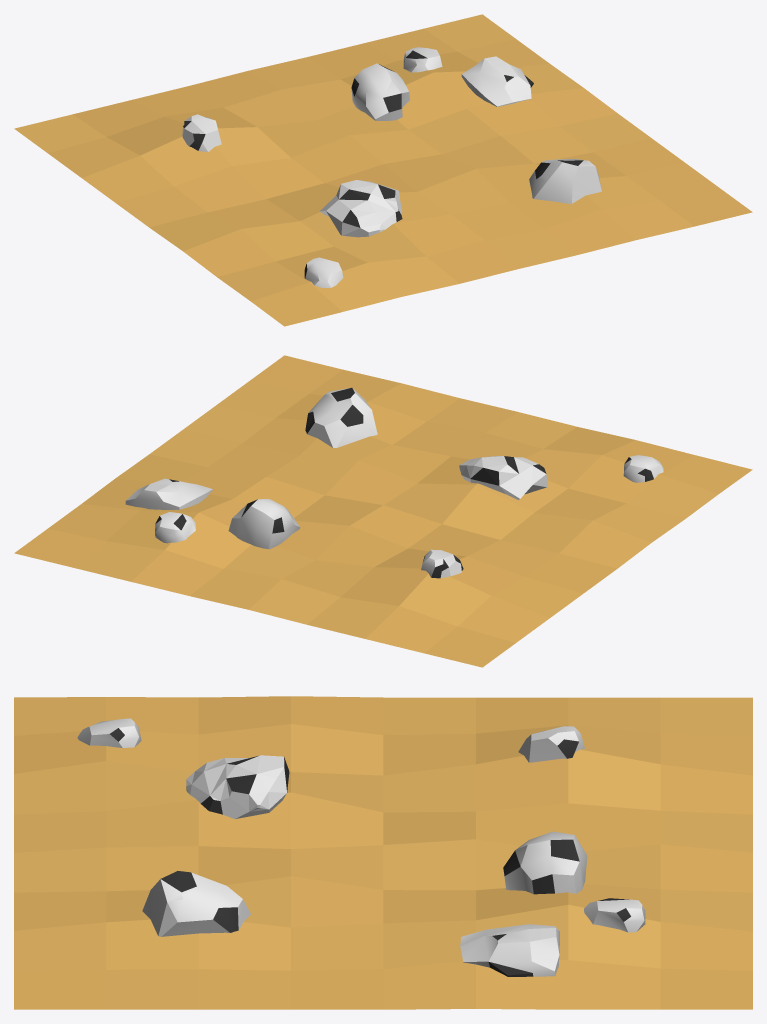
Rendered from catorebase.fbx.
3 views of the same model, one above another, from view 1: azimuth 30°, elevation 25°; view 2: azimuth 150°, elevation 25°; view 3: azimuth 270°, elevation 25° (orthographic). The views are drawn at different scales.
Visible parts, largest first — view 1: CatOre, Icosphere.001, Icosphere.002, Icosphere.006, Icosphere.004, Icosphere.005, Icosphere, Icosphere.003; view 2: CatOre, Icosphere.002, Icosphere.001, Icosphere.006, Icosphere.004, Icosphere.003, Icosphere.005, Icosphere; view 3: CatOre, Icosphere.002, Icosphere.001, Icosphere.004, Icosphere.006, Icosphere.005, Icosphere.003, Icosphere.
Boxes of the visible parts, x1,y1,x2,y2 form: CatOre: (14, 14, 752, 326); Icosphere.001: (320, 180, 402, 237); Icosphere.002: (529, 159, 601, 203); Icosphere.006: (351, 63, 410, 120); Icosphere.004: (461, 56, 533, 106); Icosphere.005: (182, 114, 221, 151); Icosphere: (304, 257, 343, 287); Icosphere.003: (403, 47, 442, 72); CatOre: (14, 355, 752, 667); Icosphere.002: (305, 387, 377, 447); Icosphere.001: (459, 456, 548, 499); Icosphere.006: (228, 499, 300, 549); Icosphere.004: (125, 478, 212, 509); Icosphere.003: (155, 512, 195, 543); Icosphere.005: (421, 549, 463, 578); Icosphere: (623, 455, 663, 482); CatOre: (14, 696, 752, 1009); Icosphere.002: (142, 871, 250, 936); Icosphere.001: (186, 755, 289, 818); Icosphere.004: (460, 924, 559, 976); Icosphere.006: (503, 831, 587, 894); Icosphere.005: (518, 726, 584, 762); Icosphere.003: (584, 898, 645, 932); Icosphere: (77, 718, 141, 747).
Bounding box in the file's own units: 18.24 × 1.81 × 18.24.
